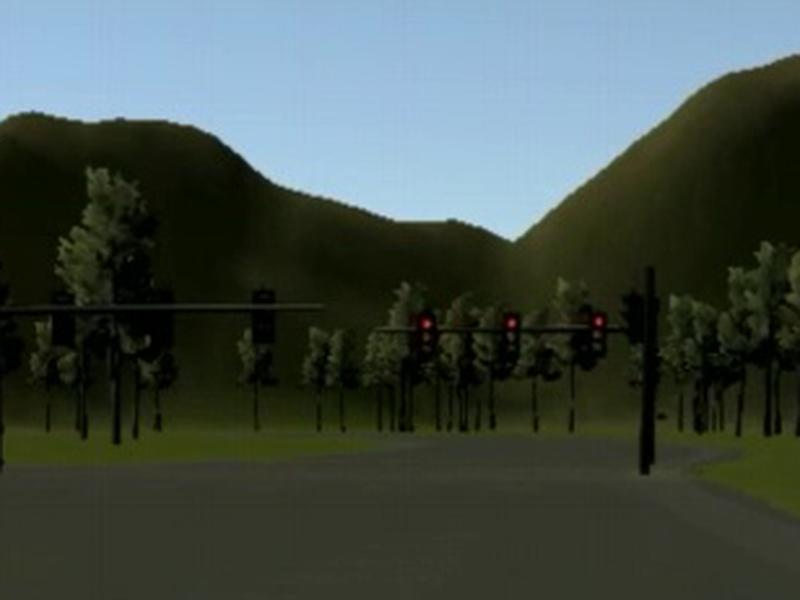Red: (588, 311, 608, 357), (501, 313, 521, 358), (418, 315, 435, 357)
